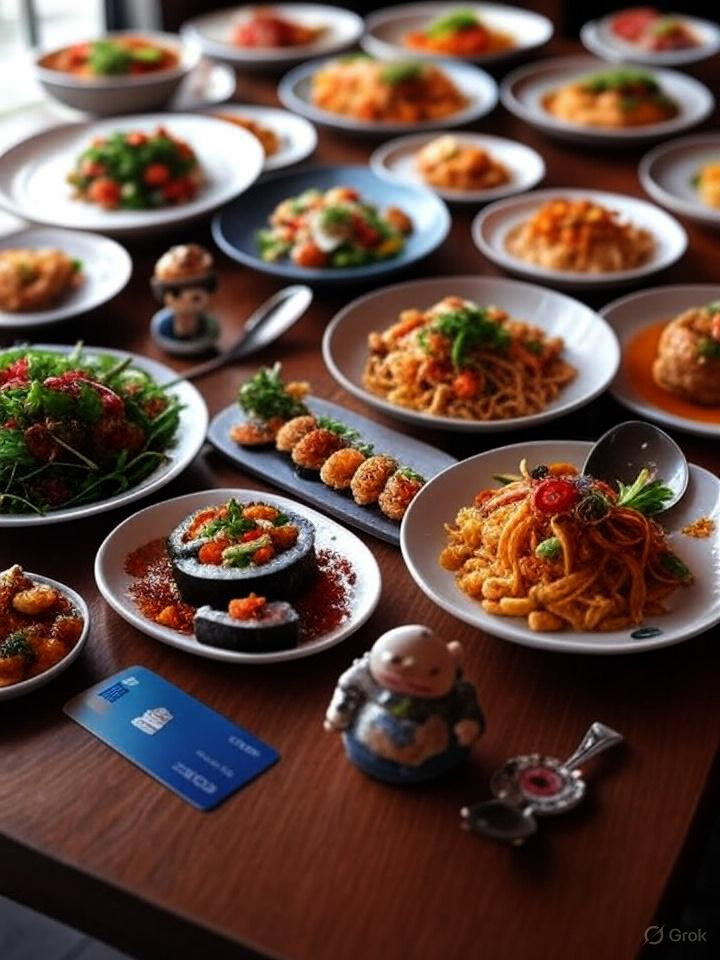noodles: (380, 279, 560, 400)
reference_object: (316, 622, 593, 860), (102, 669, 269, 801)
sushi: (158, 501, 323, 594)
